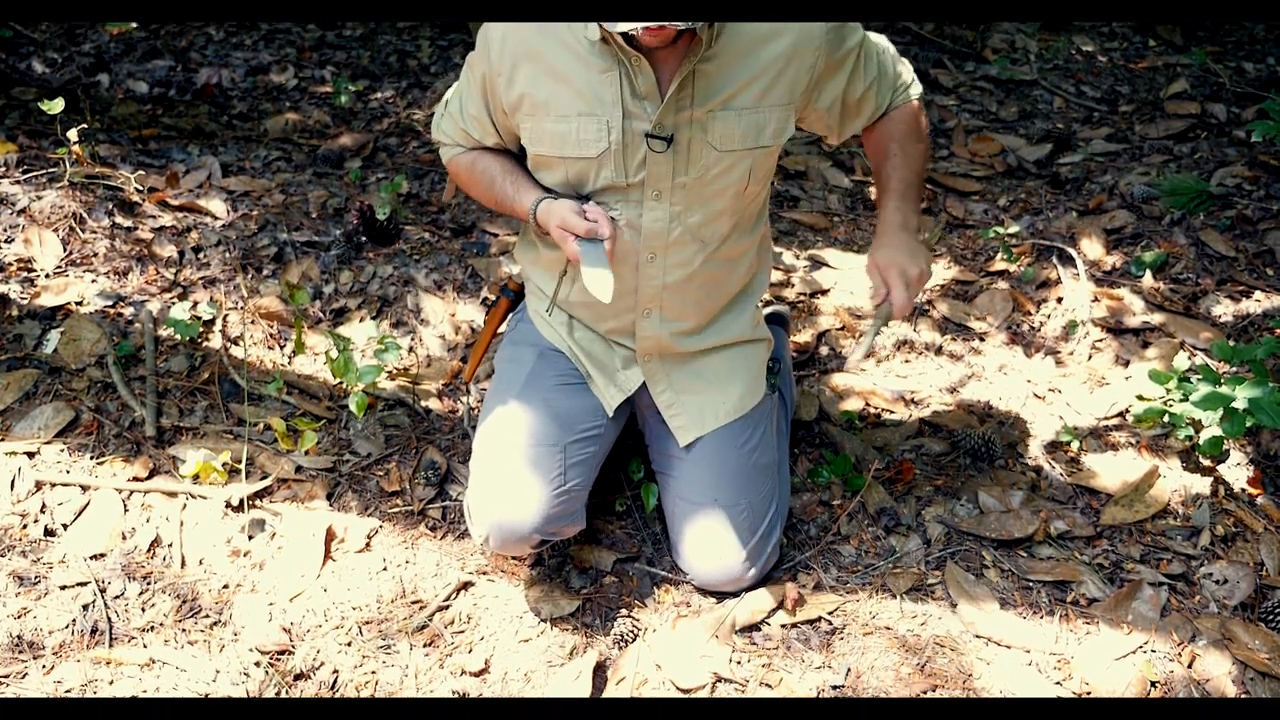knife: (544, 191, 623, 313)
